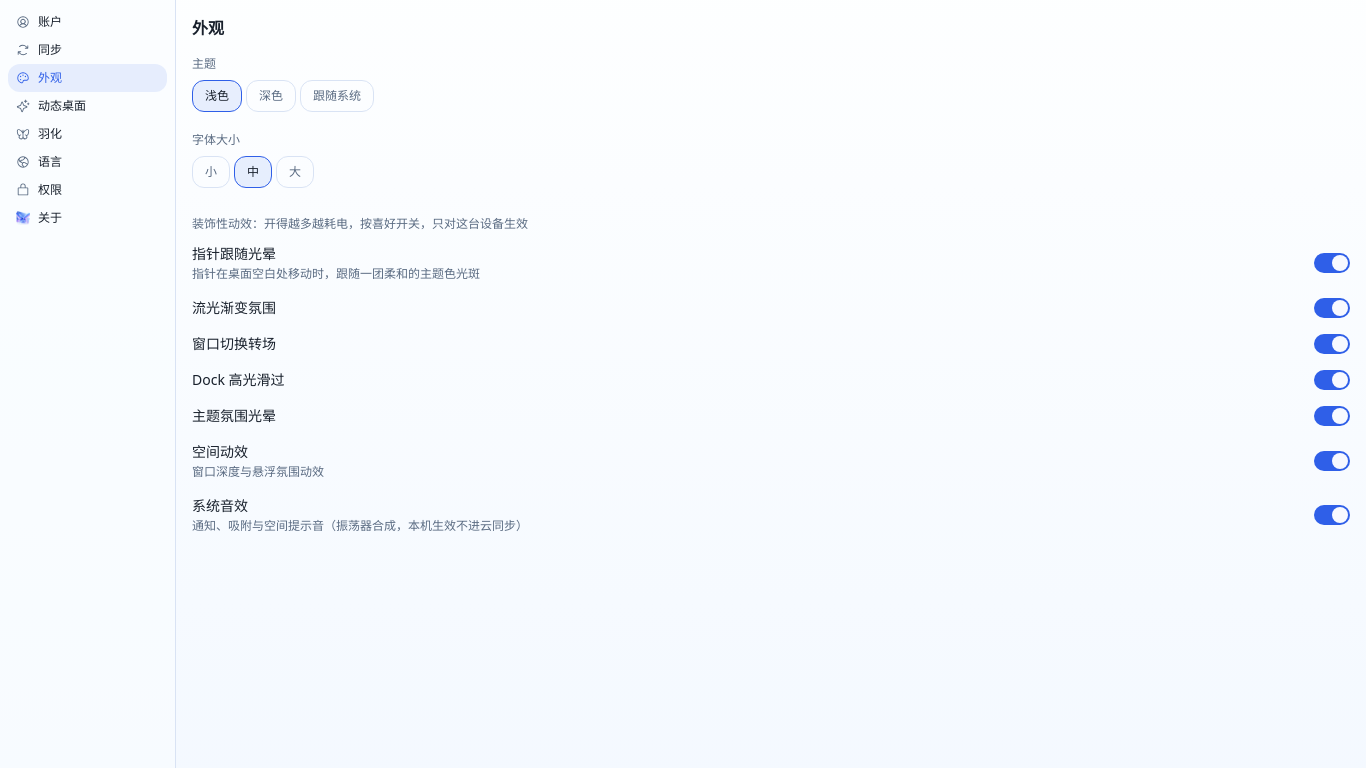
SettingsApp › registers the eclosion section and opens it (三处登记)
Note: 侧栏分区入口（本地认证下也在场，开关置灰但分区可看）。
Step 1. Click the button "羽化" → coordinates (88, 134), box [8,120,167,148]
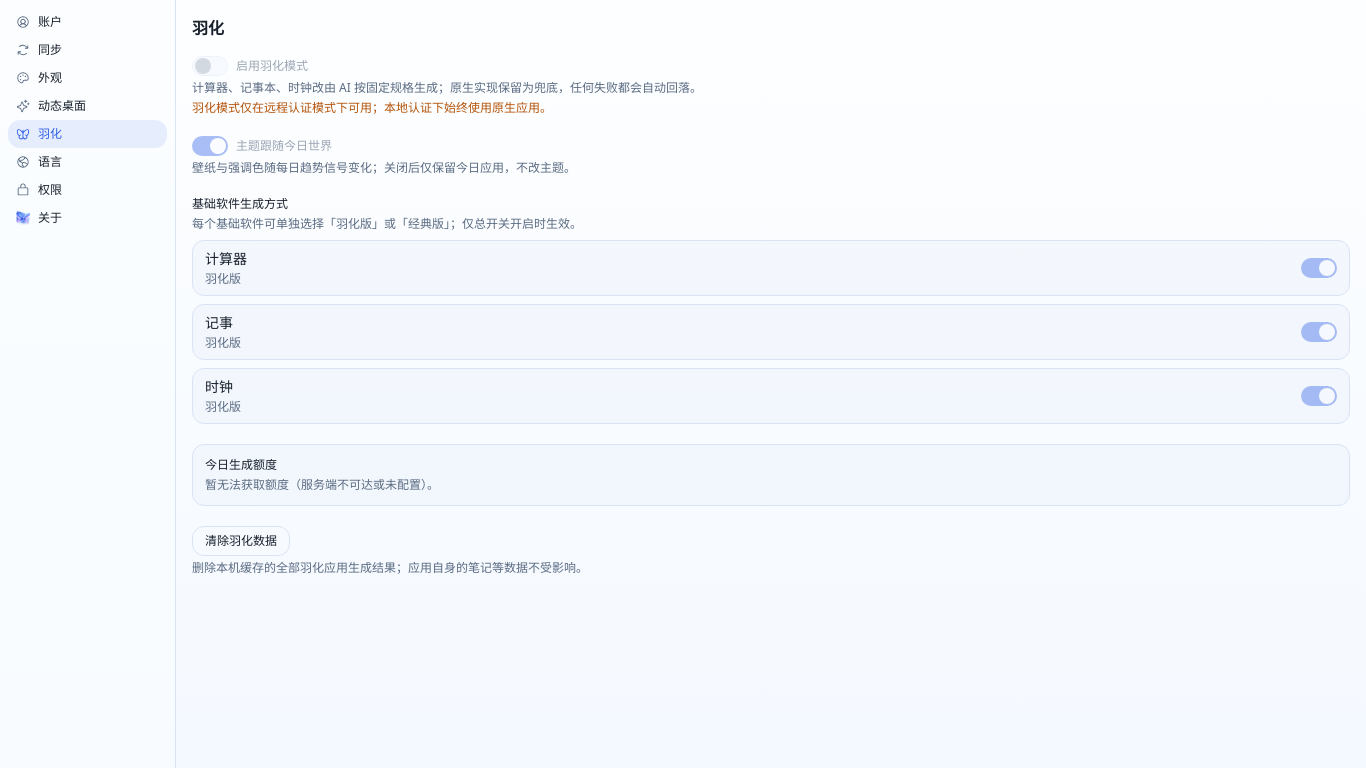
Check: the element "羽化" is shown
Check: the switch with test id "eclosion-enable-toggle" is disabled, box [192,56,228,76]
Check: the text "羽化模式仅在远程认证模式下可用；本地认证下始终使用原生应用。" is shown, box [192,99,552,116]
